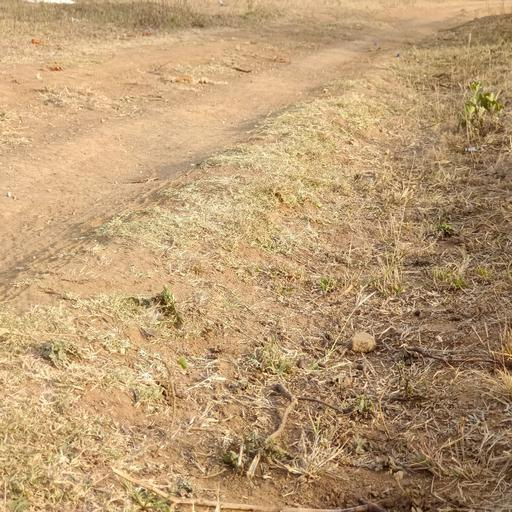vehicle_track: (0, 43, 368, 274)
